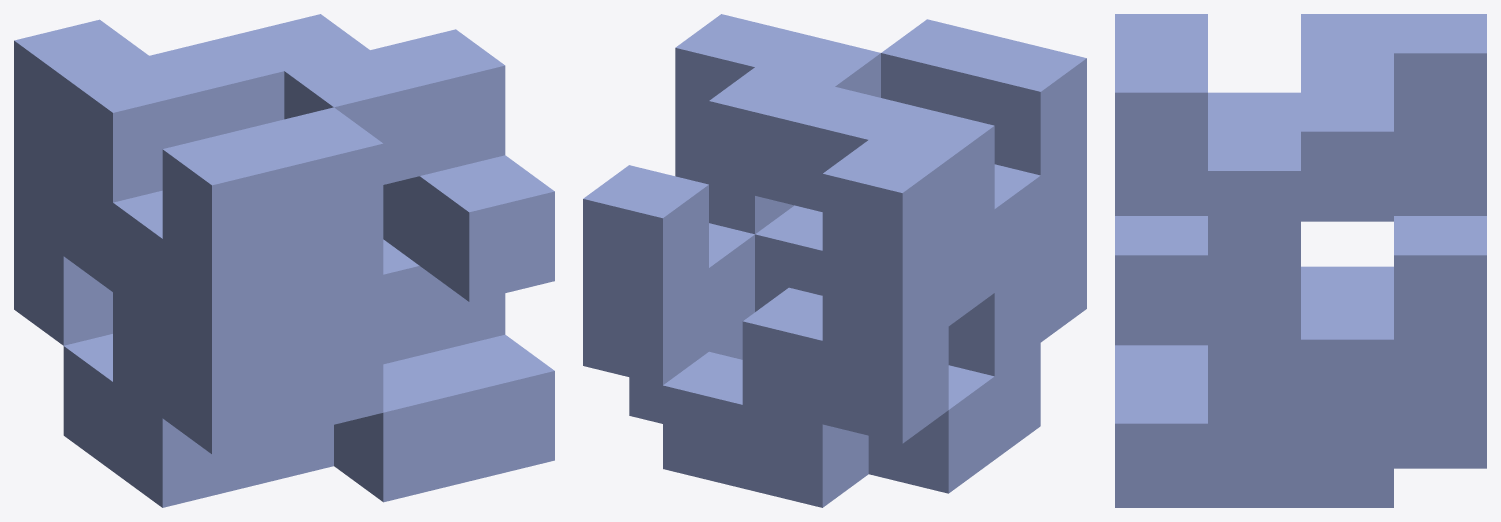
The picture shows the model from 3 angles, left to right: view 1: azimuth 30°, elevation 25°; view 2: azimuth 150°, elevation 25°; view 3: azimuth 270°, elevation 25°; orthographic projection. The views are drawn at different scales.
Visible parts, largest first — view 1: _changes.016; view 2: _changes.016; view 3: _changes.016.
Part boxes in pixels (bbox=[...]): _changes.016: bbox=[14, 14, 554, 507]; _changes.016: bbox=[583, 14, 1086, 507]; _changes.016: bbox=[1115, 14, 1486, 507].
Size of the model in its own units: 0.1041 by 0.1041 by 0.1041.
